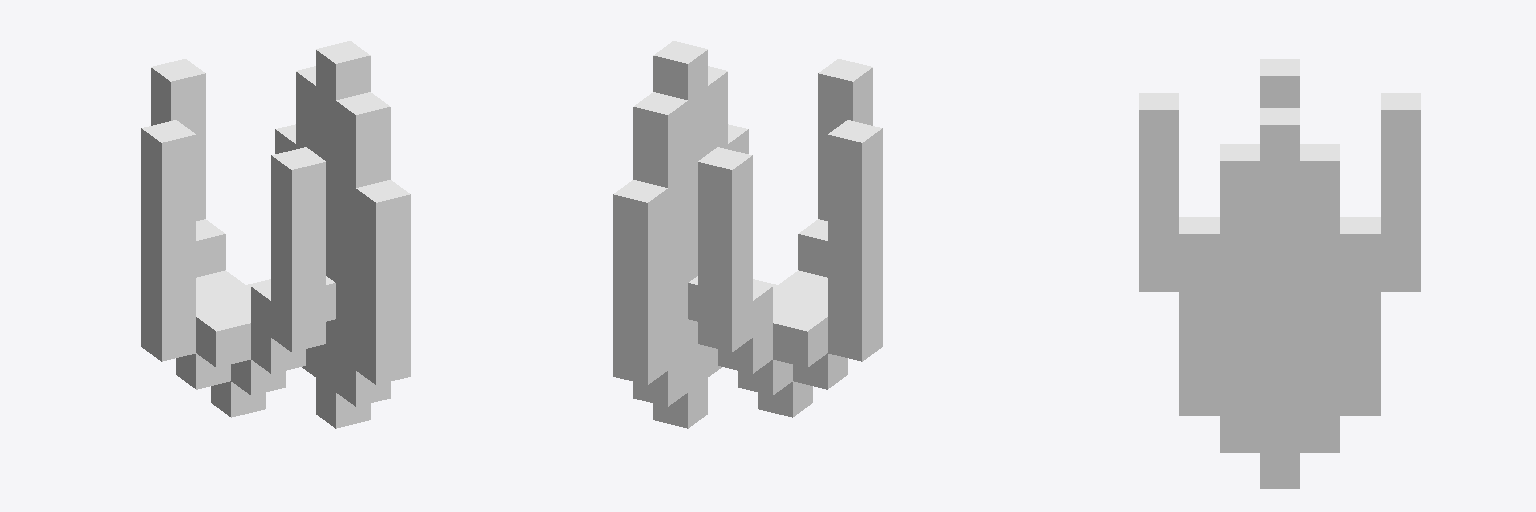
The model's file is wallCandles.obj.
The picture shows the model from 3 angles: view 1: azimuth 30°, elevation 25°; view 2: azimuth 150°, elevation 25°; view 3: azimuth 270°, elevation 25°; orthographic projection.
Parts seen in each view (by area): view 1: object 1; view 2: object 1; view 3: object 1.
Part boxes in pixels (bbox=[...]): object 1: bbox=[141, 41, 410, 428]; object 1: bbox=[613, 41, 882, 428]; object 1: bbox=[1139, 59, 1420, 488].
Size of the model in its own units: 0.6 by 1 by 0.7.